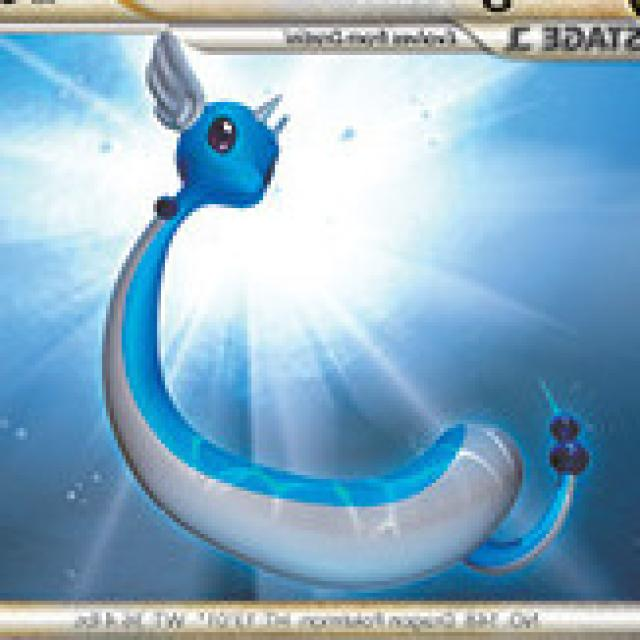Dragonair: (104, 31, 498, 584)
